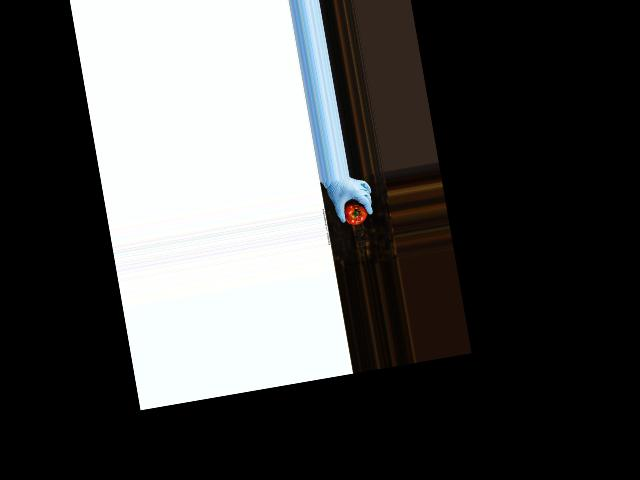tomato: (342, 198, 368, 227)
